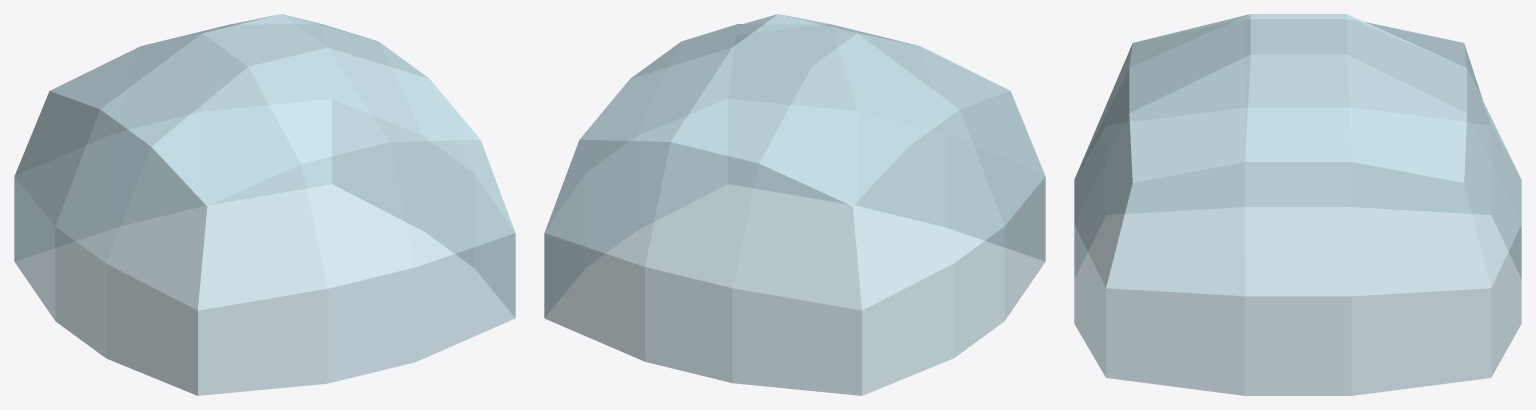
The model's file is FishingSpotBubbles.glb.
3 renders of one model, left to right at view 1: azimuth 30°, elevation 25°; view 2: azimuth 150°, elevation 25°; view 3: azimuth 270°, elevation 25°, orthographic. The views are drawn at different scales.
Parts seen in each view (by area): view 1: Cube; view 2: Cube; view 3: Cube.
Part boxes in pixels (x1=…): Cube: x1=14, y1=14, x2=515, y2=395; Cube: x1=544, y1=14, x2=1045, y2=395; Cube: x1=1074, y1=14, x2=1521, y2=395.
Size of what is drawn, in the model's own units: 0.1252 by 0.0826 by 0.1252.
